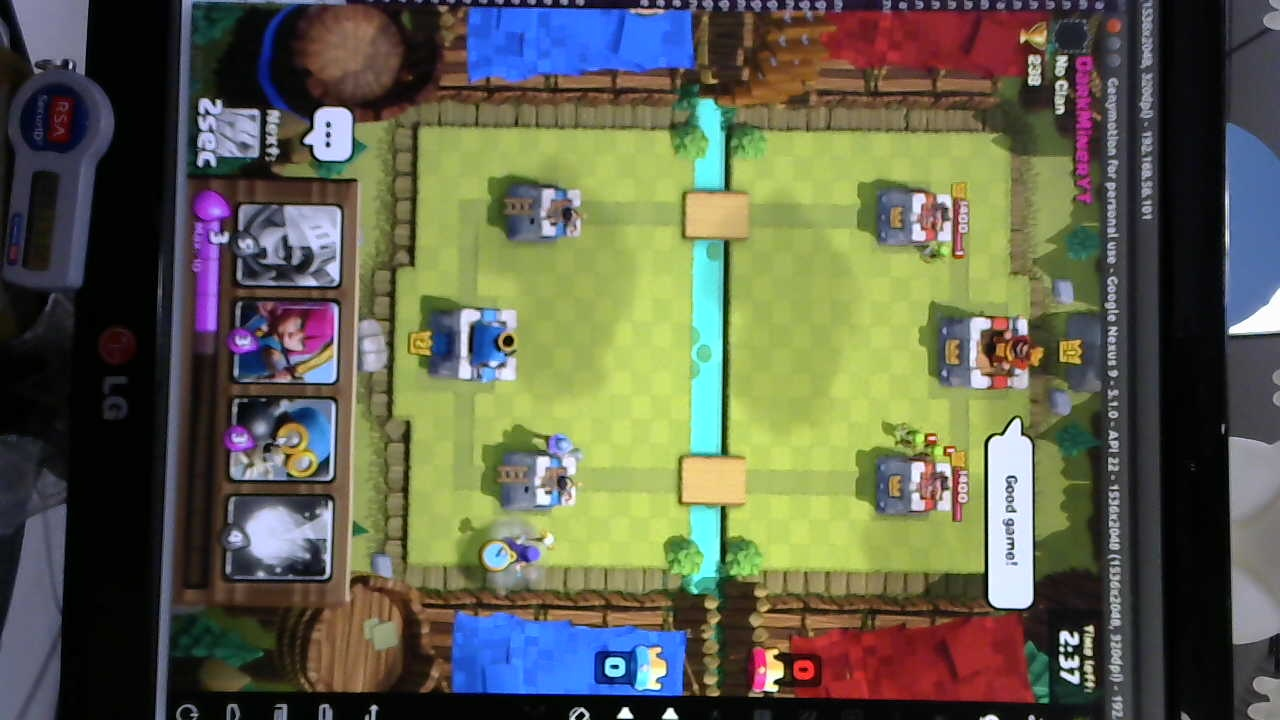arena: (492, 450, 577, 512), (502, 180, 583, 244)
earena: (874, 186, 957, 248), (876, 456, 955, 516)
eking: (935, 310, 1039, 391)
goblin: (912, 239, 955, 268)
goblins: (889, 421, 955, 462)
king: (425, 301, 525, 385)
musketeer: (525, 427, 583, 463)
witch: (491, 531, 554, 570)
